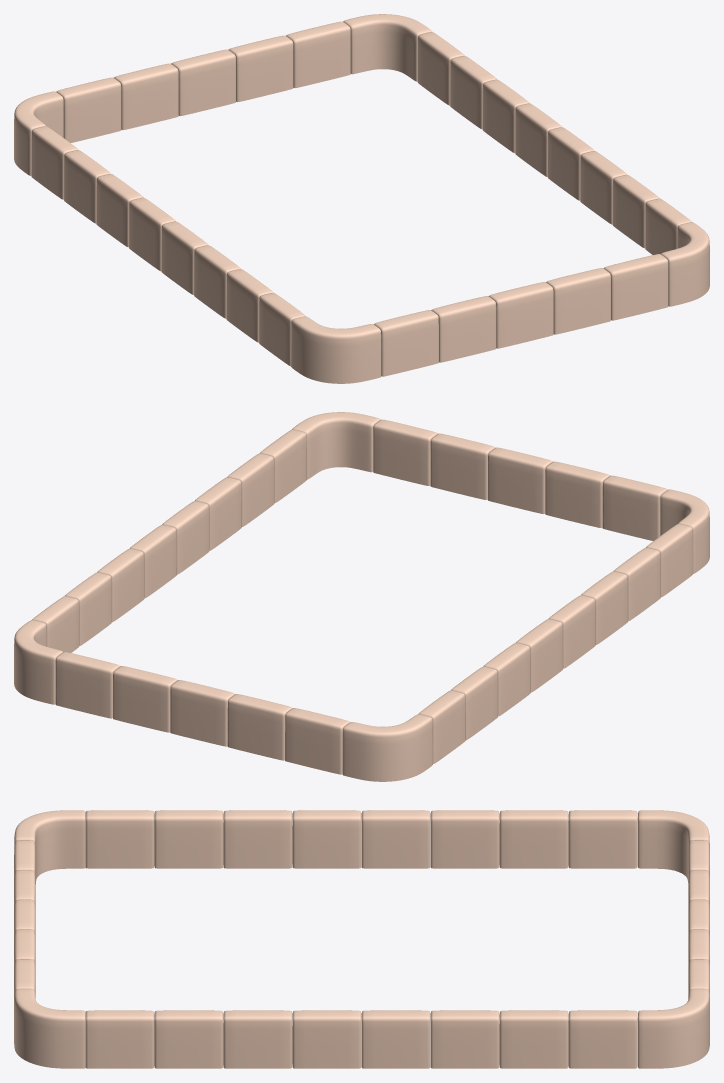
Rendered from M_Gridwall13x9.fbx.
3 views of the same model, one above another, from view 1: azimuth 30°, elevation 25°; view 2: azimuth 150°, elevation 25°; view 3: azimuth 270°, elevation 25° (orthographic). The views are drawn at different scales.
Visible parts, largest first — view 1: walls13x9; view 2: walls13x9; view 3: walls13x9.
Boxes of the visible parts, x1,y1,x2,y2 form: walls13x9: (14,14,709,383); walls13x9: (14,412,709,781); walls13x9: (14,810,709,1068).
Bounding box in the file's own units: 9.86 × 1.12 × 13.85.
